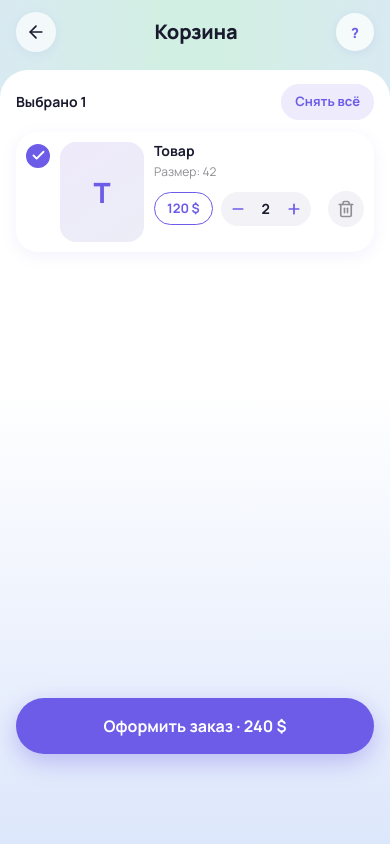
Test case: CartView › удаление: trash → подтверждение → Да
Click the button named "Удалить «Товар» из корзины".
click(346, 209)  # box [328,191,364,227]
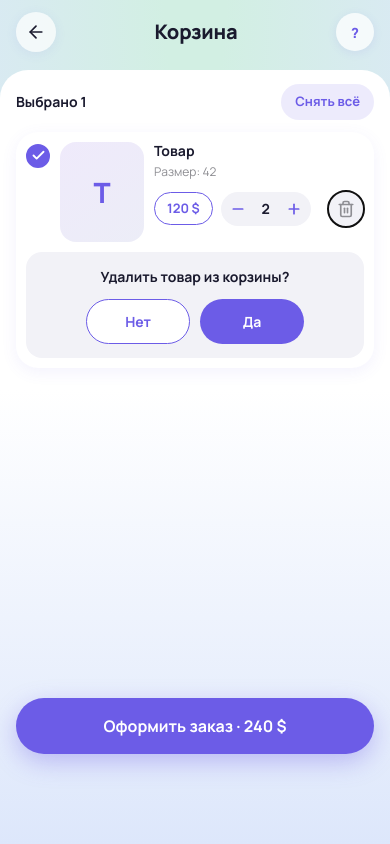
Now the text "Удалить товар из корзины?" is shown, box [101,266,289,286]
Click the button "Да".
click(252, 321)  # box [200,298,304,344]
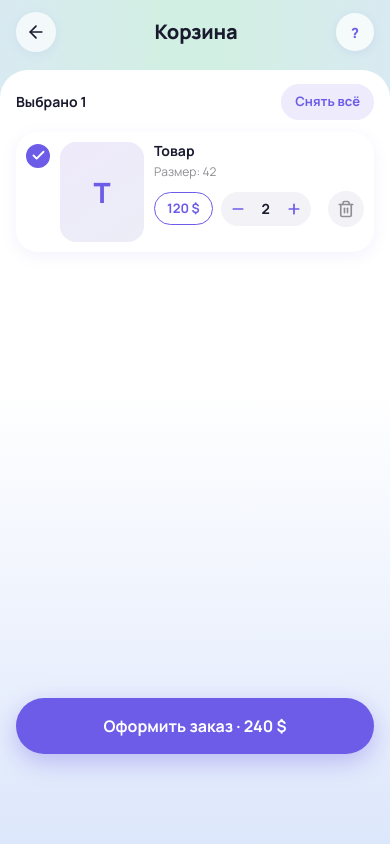
Now the text "Удалить товар из корзины?" is gone
